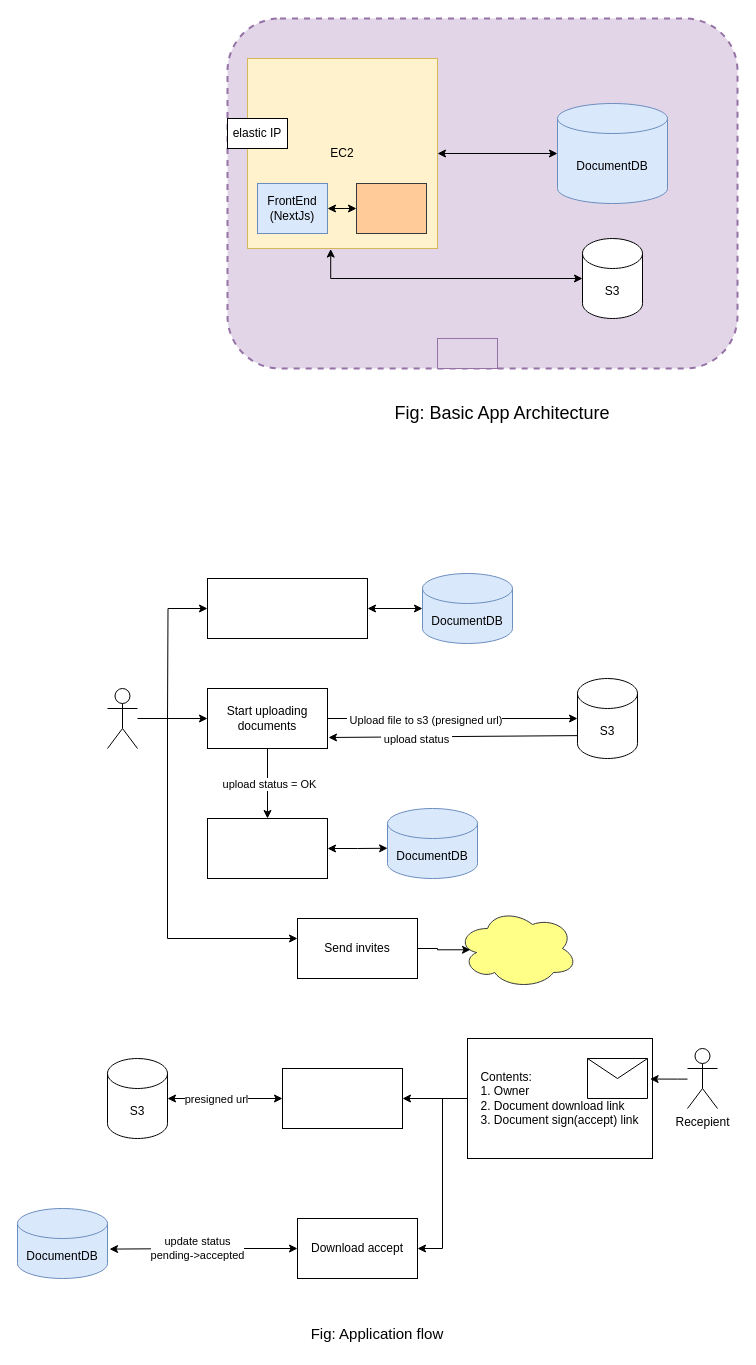
Image size: 756x1365. Some labels were removed from this diagram. Each missing label, with the centre of its shape:
"AWS SES" belongs at (x=517, y=948).
"BackEnd (NestJs)" belongs at (x=391, y=208).
"Download document" belongs at (x=342, y=1098).
"Get all documents (display status of documents accepted)" belongs at (x=287, y=608).
"Owner" belongs at (x=122, y=718).
"Update record" belongs at (x=267, y=848).
"VPC" belongs at (x=467, y=353).
